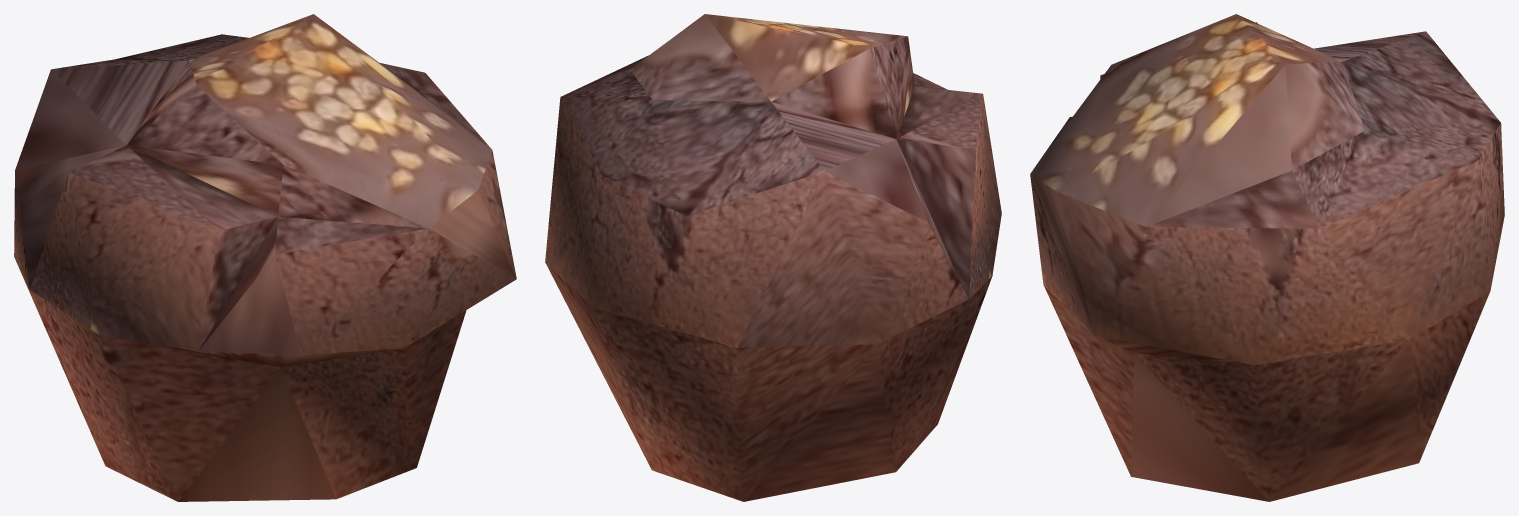
Rendered from muffin_74.obj.
3 renders of one model, left to right at view 1: azimuth 30°, elevation 25°; view 2: azimuth 150°, elevation 25°; view 3: azimuth 270°, elevation 25°, orthographic.
Bounding box in the file's own units: 14.03 × 13.09 × 13.81.
1 material, 1 textured.
